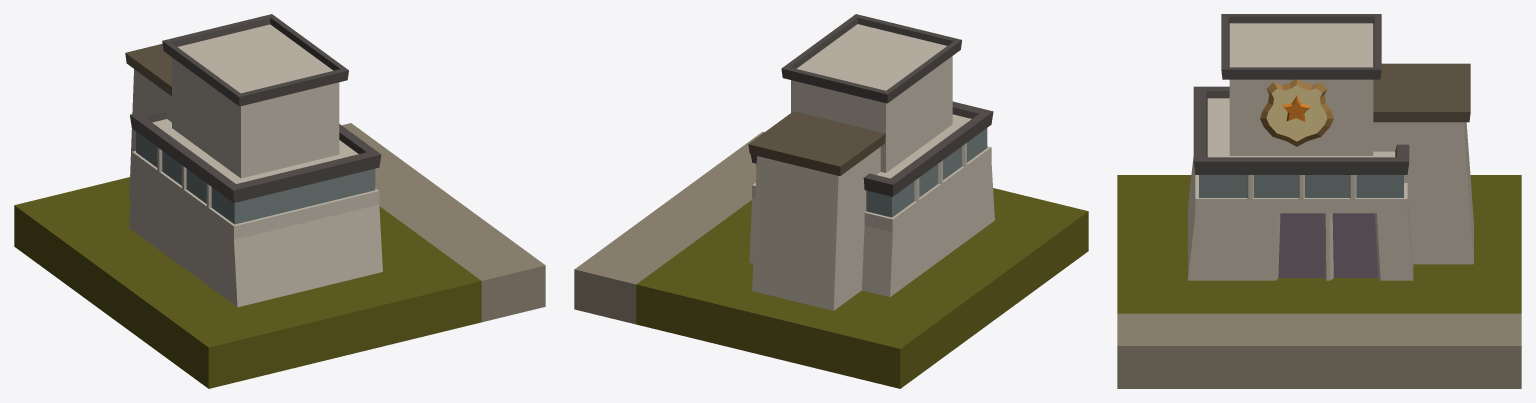
The model's file is Delegacia.fbx.
3 views of the same model, side by side, from view 1: azimuth 30°, elevation 25°; view 2: azimuth 150°, elevation 25°; view 3: azimuth 270°, elevation 25° (orthographic). The views are drawn at different scales.
Visible parts, largest first — view 1: Delegacia; view 2: Delegacia; view 3: Delegacia.
Part boxes in pixels (x1=…): Delegacia: x1=14, y1=14, x2=545, y2=388; Delegacia: x1=574, y1=14, x2=1088, y2=388; Delegacia: x1=1117, y1=14, x2=1521, y2=388.
Bounding box in the file's own units: 200 × 134 × 200.
